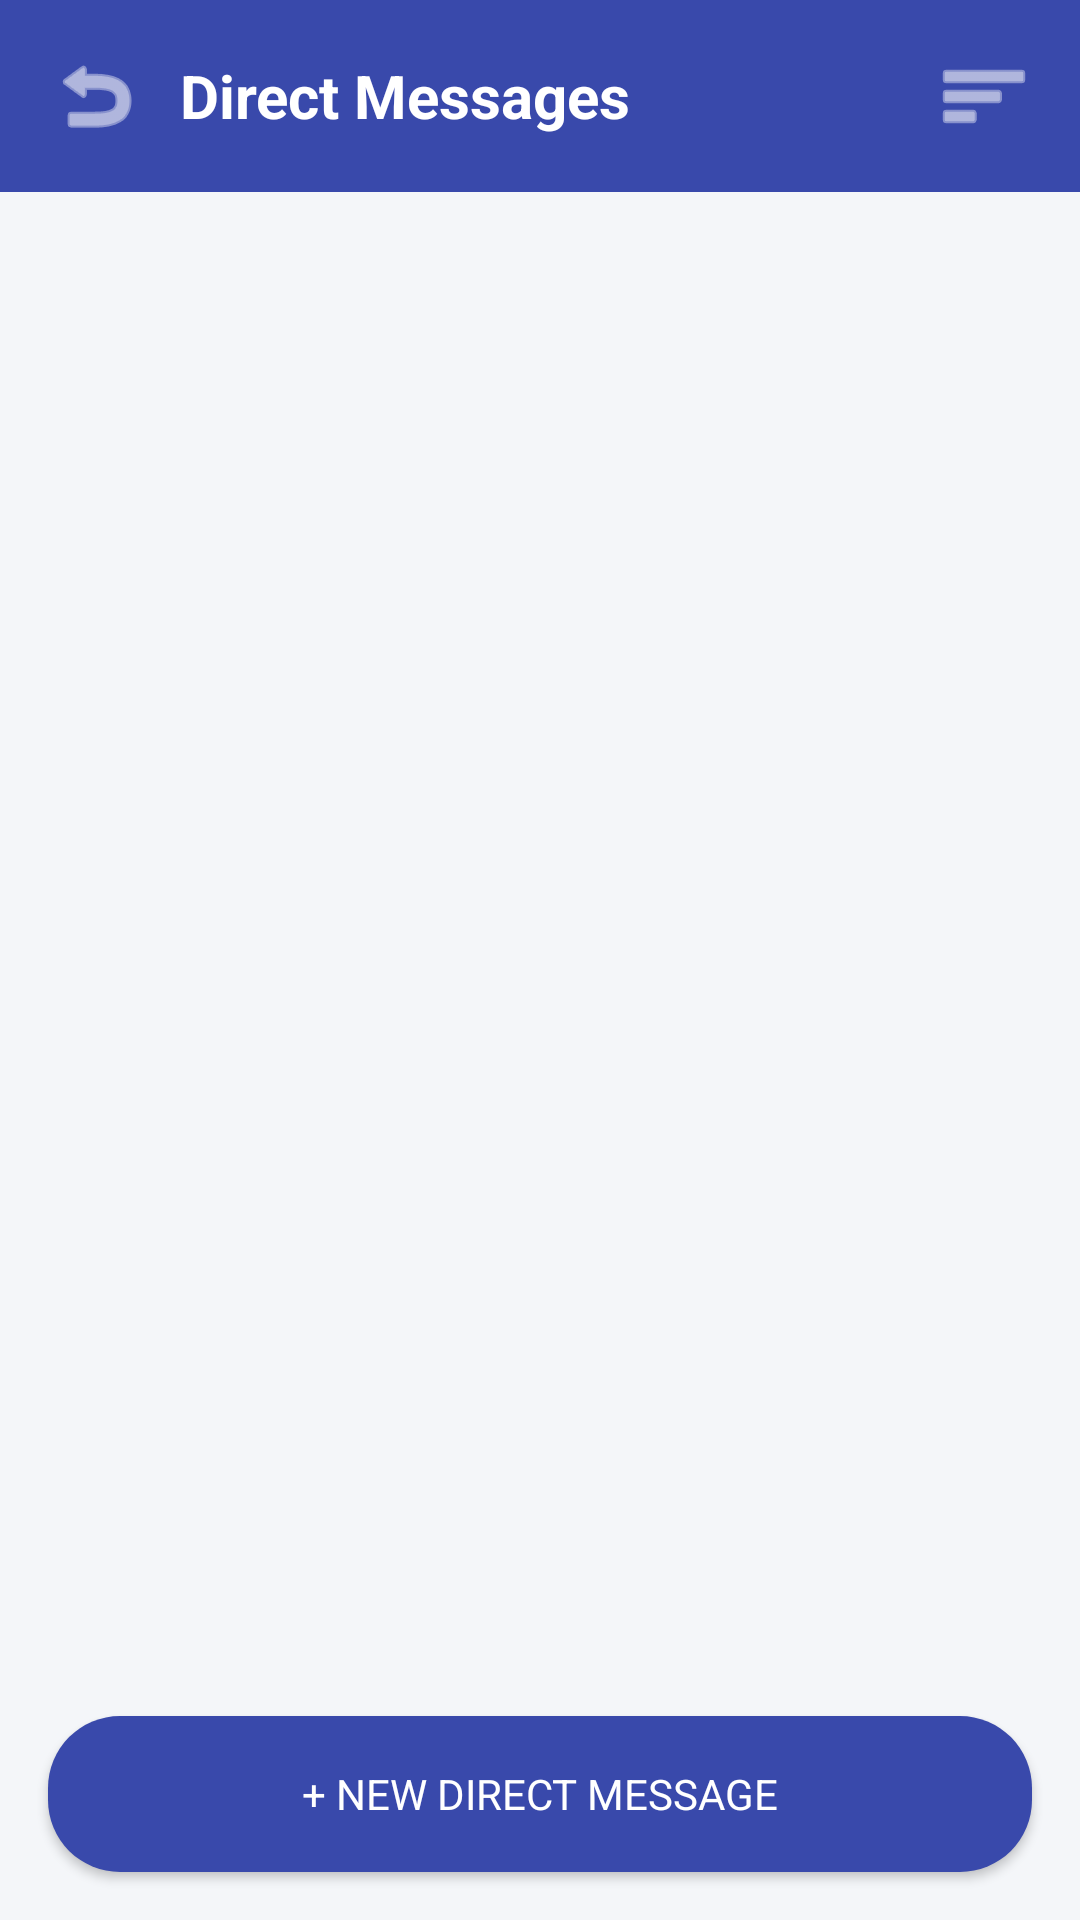

Where icons sit on this 1080 × 1920 app screen, as [left=x1, top=y1, right=x2, bottom=y2]:
Back: [left=63, top=65, right=132, bottom=128]
Sort: [left=943, top=70, right=1025, bottom=123]
